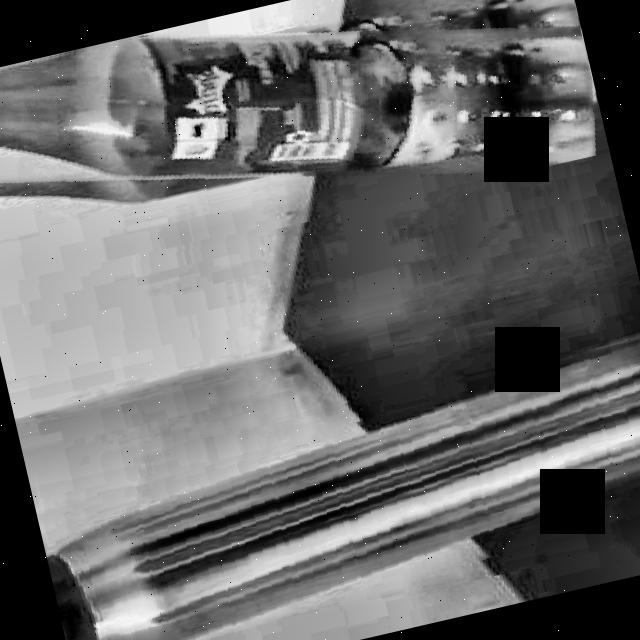bottle: (46, 337, 640, 640), (0, 29, 595, 176)
